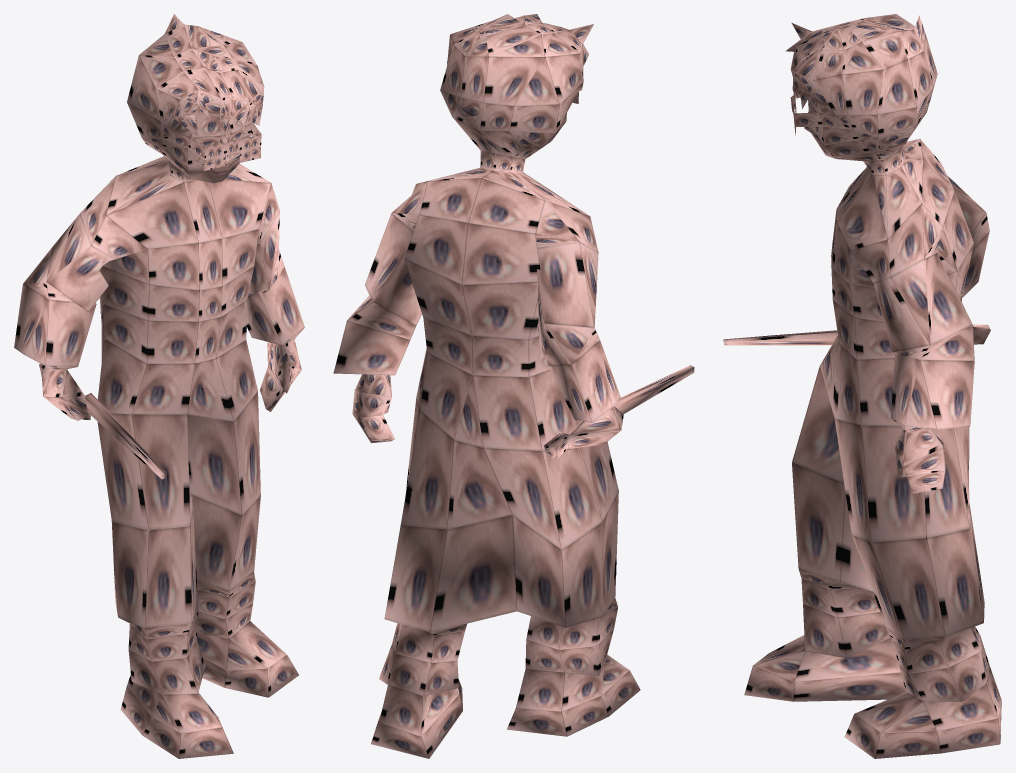
The picture shows the model from 3 angles, left to right: view 1: azimuth 30°, elevation 25°; view 2: azimuth 150°, elevation 25°; view 3: azimuth 270°, elevation 25°; orthographic projection. The views are drawn at different scales.
Visible parts, largest first — view 1: T1L6M005_0; view 2: T1L6M005_0; view 3: T1L6M005_0.
Boxes of the visible parts, <box> form: T1L6M005_0: <box>14,14,304,758</box>; T1L6M005_0: <box>333,14,694,758</box>; T1L6M005_0: <box>723,14,1001,758</box>.
Size of the model in its own units: 0.5766 by 1.39 by 0.5066.
